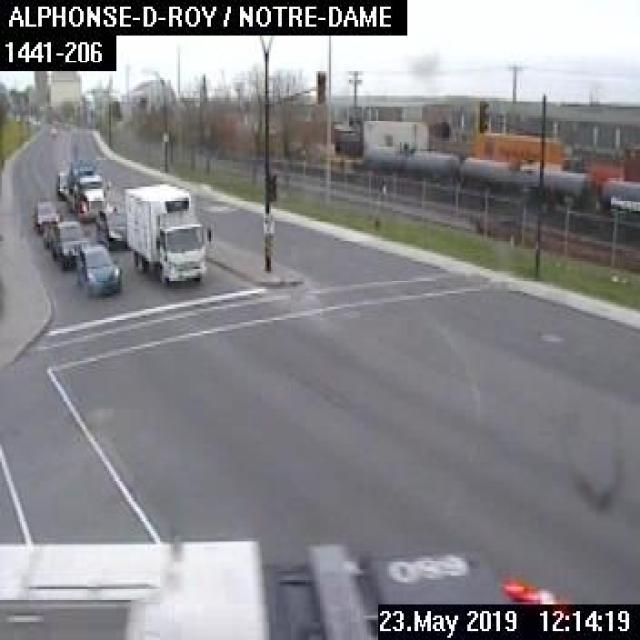vehicle: (0, 533, 575, 638), (119, 175, 213, 288), (54, 158, 106, 220), (74, 241, 122, 295), (49, 219, 86, 270), (92, 205, 126, 248), (32, 197, 57, 230)
